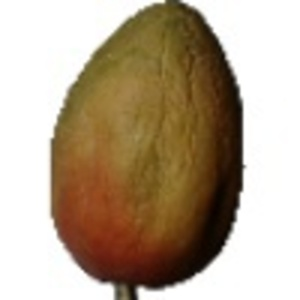mamão: (45, 5, 267, 291)
